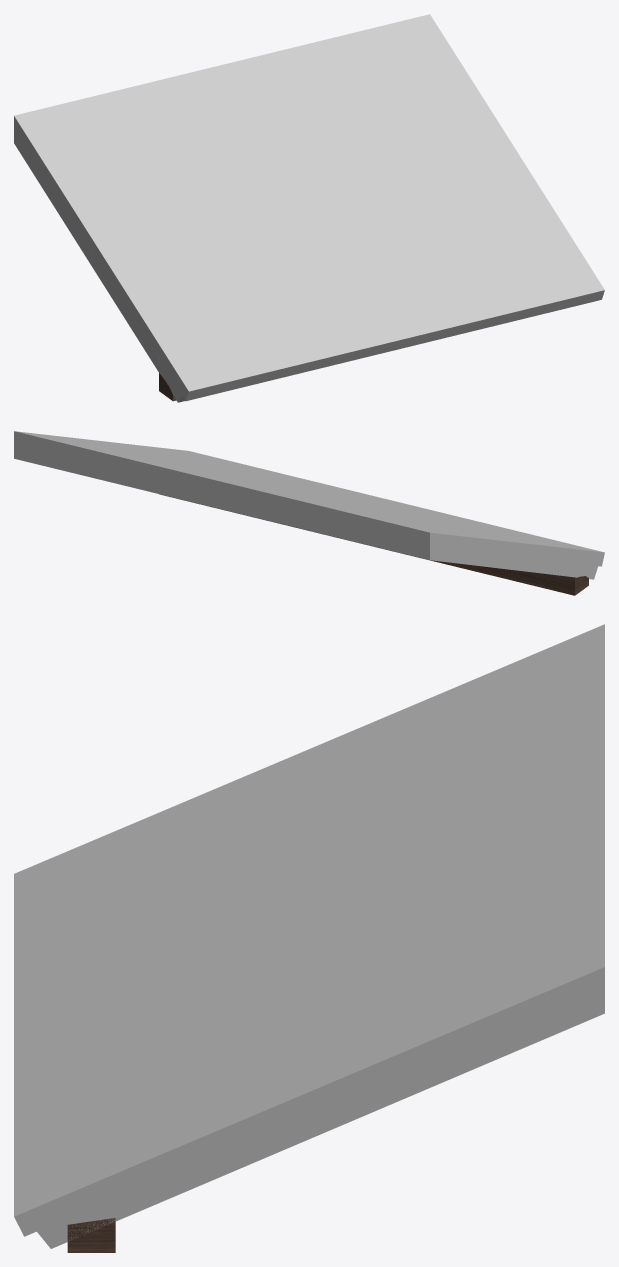
Rendered from kawara_1x1t_a1middle.fbx.
3 views of the same model, one above another, from view 1: azimuth 30°, elevation 25°; view 2: azimuth 150°, elevation 25°; view 3: azimuth 270°, elevation 25° (orthographic). The views are drawn at different scales.
Visible parts, largest first — view 1: kawara_1x1t_a1middle; view 2: kawara_1x1t_a1middle; view 3: kawara_1x1t_a1middle.
Boxes of the visible parts, bbox=[...] form: kawara_1x1t_a1middle: bbox=[14, 14, 604, 402]; kawara_1x1t_a1middle: bbox=[14, 431, 604, 595]; kawara_1x1t_a1middle: bbox=[14, 624, 604, 1252].
Size of the model in its own units: 220 by 85.54 by 160.
